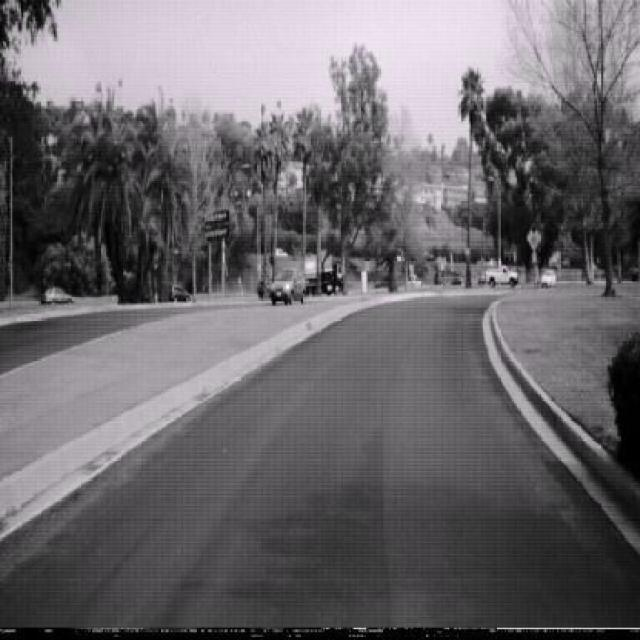stopAhead: (524, 220, 542, 253)
